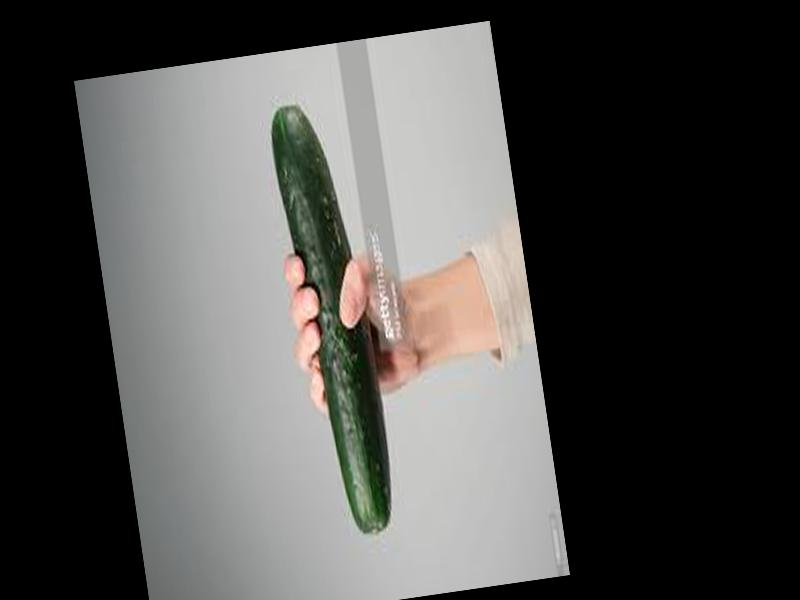Cucumber: (266, 98, 398, 532)
